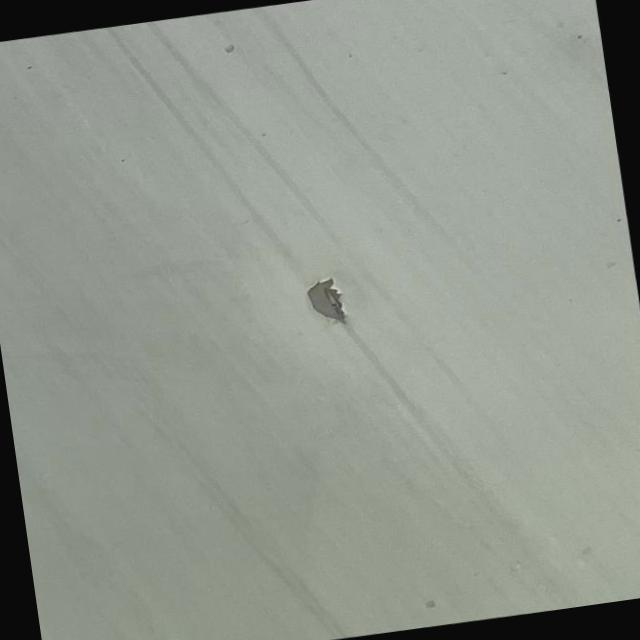crack: (312, 267, 354, 343)
